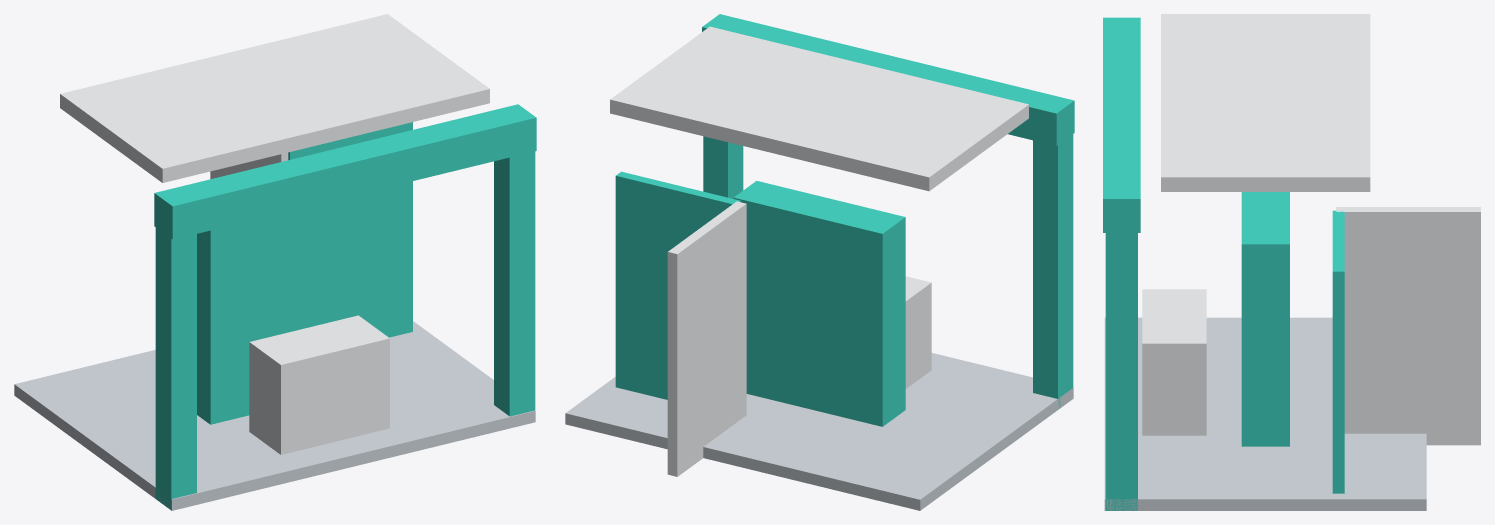
3 views of the same model, side by side, from view 1: azimuth 30°, elevation 25°; view 2: azimuth 150°, elevation 25°; view 3: azimuth 270°, elevation 25° (orthographic). The views are drawn at different scales.
Visible parts, largest first — view 1: Exhibition Booth Concept; view 2: Exhibition Booth Concept; view 3: Exhibition Booth Concept.
Part boxes in pixels (x1,y1,x2,y2): Exhibition Booth Concept: (14, 14, 536, 510); Exhibition Booth Concept: (565, 14, 1074, 510); Exhibition Booth Concept: (1103, 14, 1480, 510).
Size of the model in its own units: 4 by 3.34 by 3.52.
